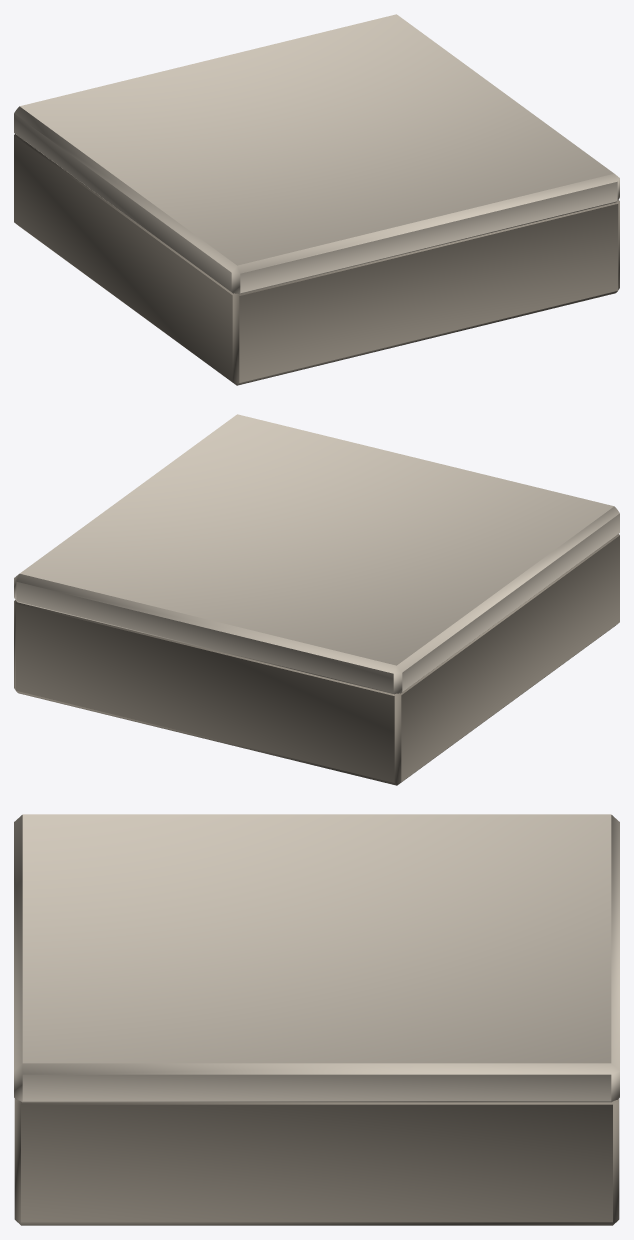
File: tile_path.glb
3 renders of one model, top to bottom at view 1: azimuth 30°, elevation 25°; view 2: azimuth 150°, elevation 25°; view 3: azimuth 270°, elevation 25°, orthographic. The views are drawn at different scales.
Parts seen in each view (by area): view 1: path_cap, path_body; view 2: path_cap, path_body; view 3: path_cap, path_body.
Boxes of the visible parts, left/top/right/bottom form: path_cap: left=14, top=14, right=619, bottom=294; path_body: left=14, top=134, right=619, bottom=385; path_cap: left=14, top=414, right=619, bottom=694; path_body: left=14, top=534, right=619, bottom=785; path_cap: left=14, top=814, right=619, bottom=1102; path_body: left=14, top=1098, right=619, bottom=1225.
Size of the model in its own units: 1.7 by 0.5 by 1.7.
